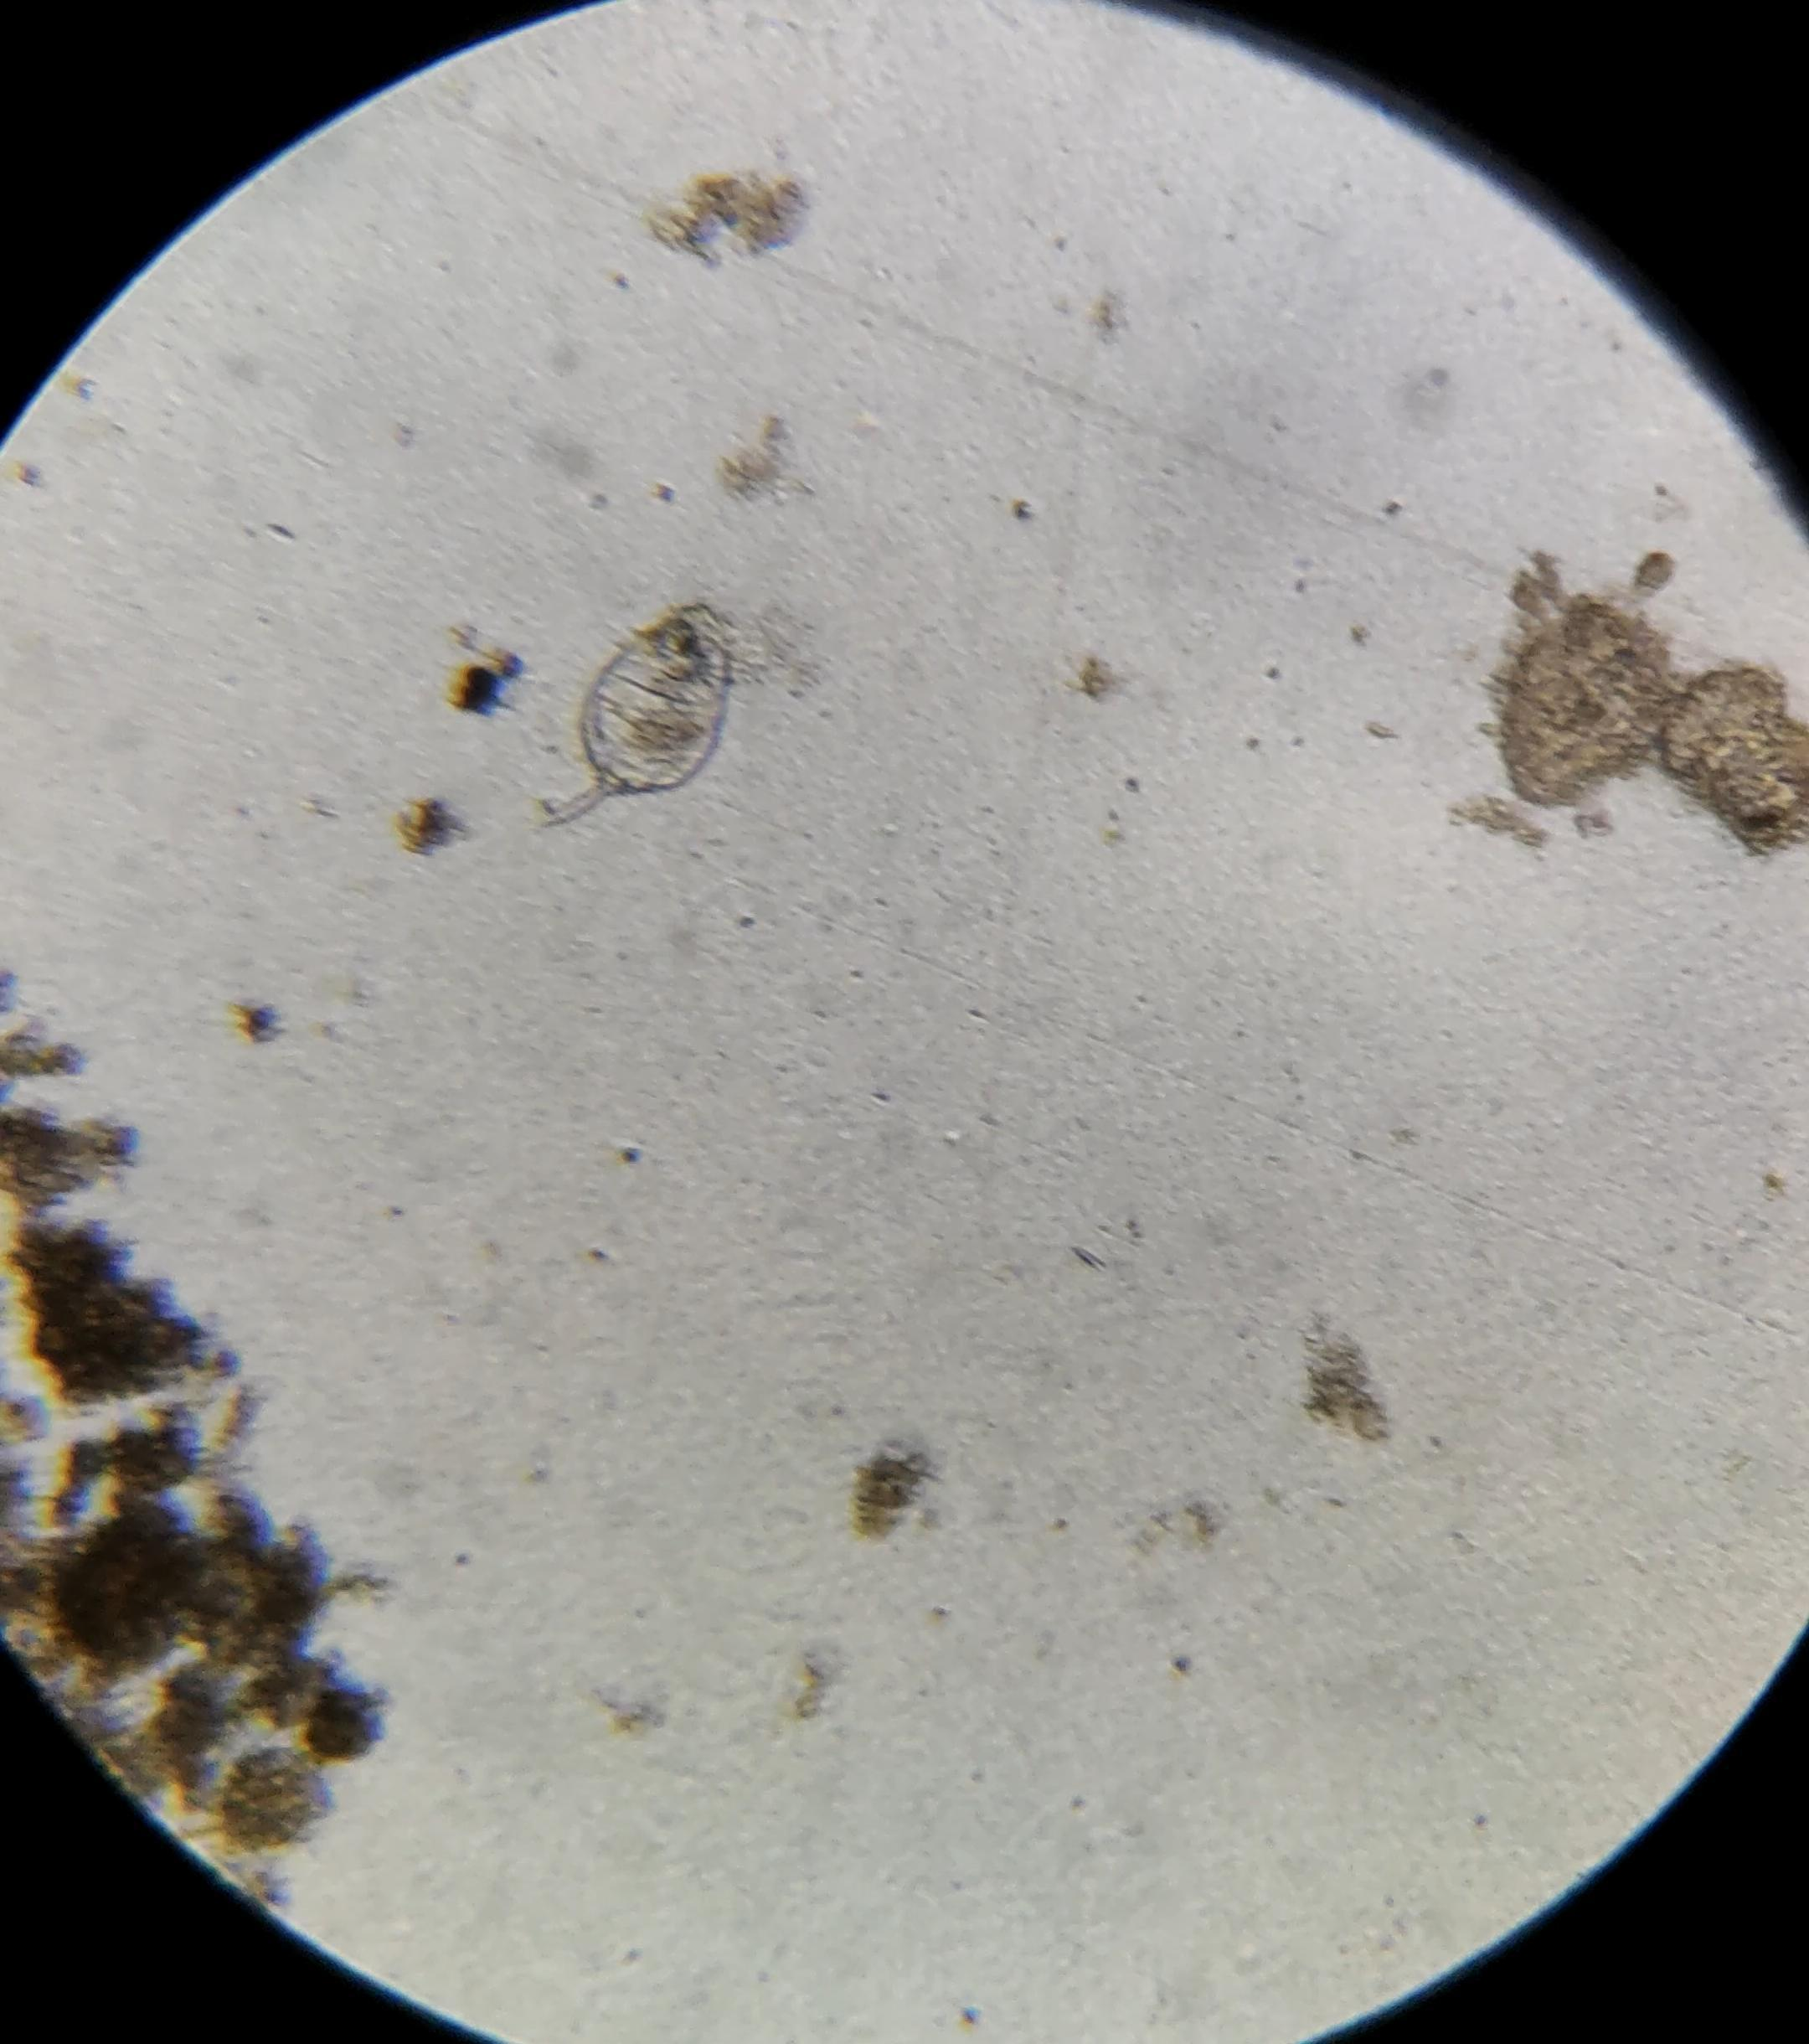Mo: (541, 603, 728, 826)
